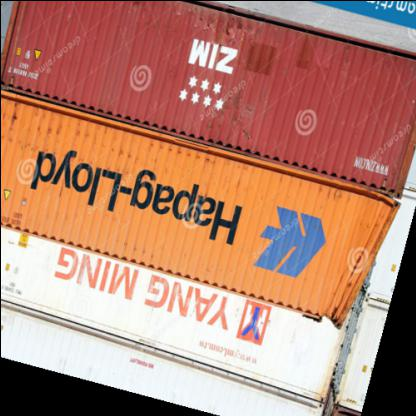Damage: (323, 235, 385, 330)
